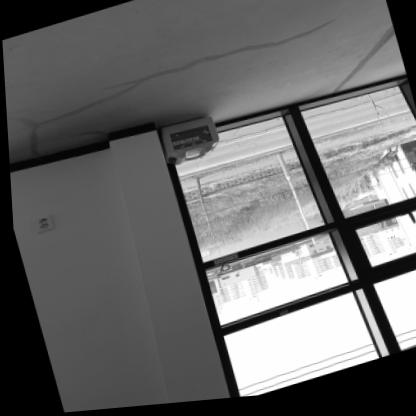DDL: (158, 120, 218, 166)
